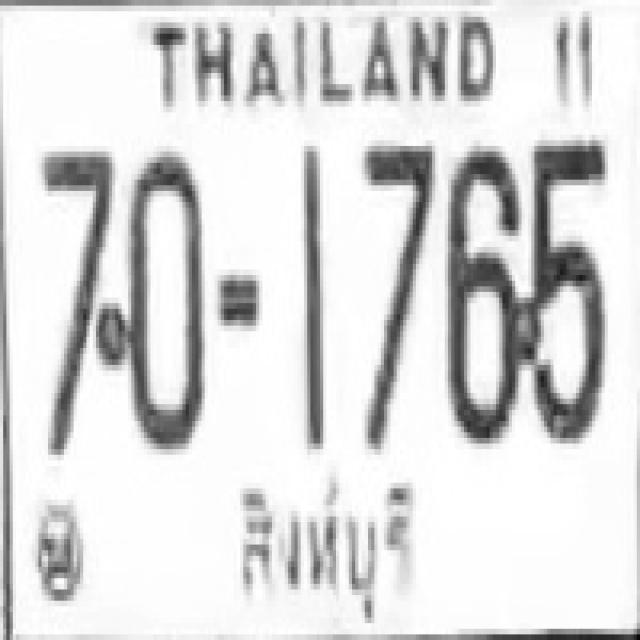0: (120, 146, 203, 449)
1: (296, 146, 322, 449), (299, 146, 322, 449)
5: (525, 135, 605, 438)
6: (445, 140, 525, 438)
7: (36, 143, 114, 452), (362, 140, 432, 444), (362, 140, 432, 388)
SingBuri: (227, 461, 422, 622)
